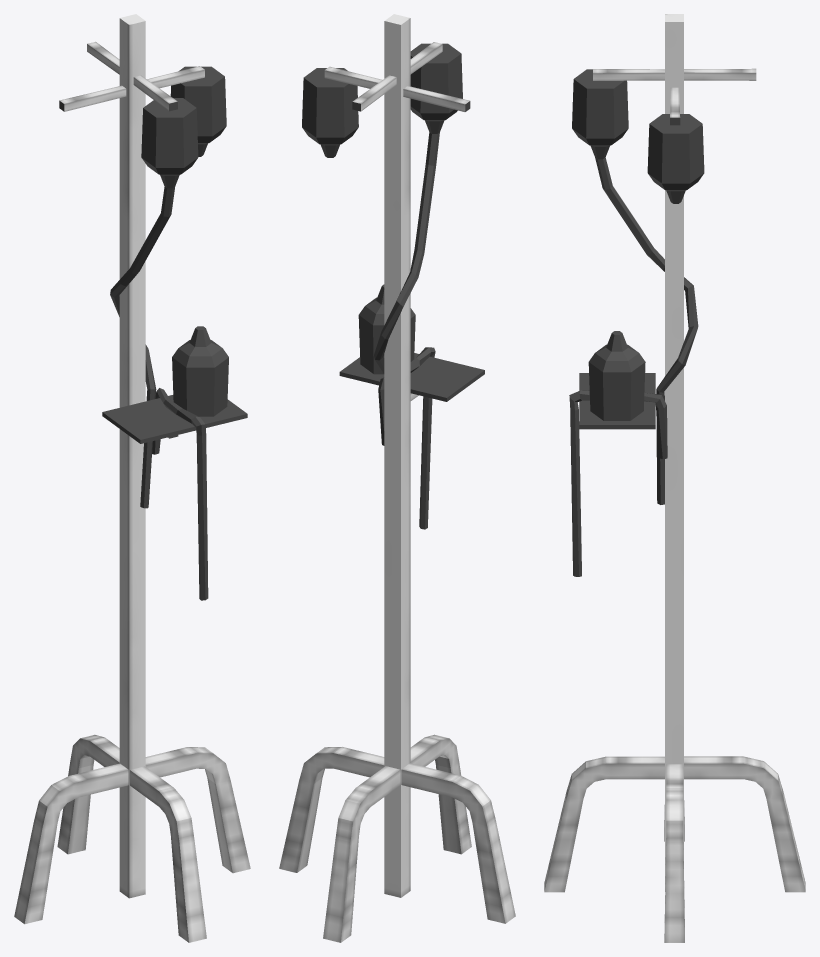
Rendered from obj_dripStand.fbx.
The picture shows the model from 3 angles, left to right: view 1: azimuth 30°, elevation 25°; view 2: azimuth 150°, elevation 25°; view 3: azimuth 270°, elevation 25°; orthographic projection.
Visible parts, largest first — view 1: obj_drip stand; view 2: obj_drip stand; view 3: obj_drip stand.
Part boxes in pixels (bbox=[...]): obj_drip stand: bbox=[14, 14, 250, 942]; obj_drip stand: bbox=[279, 14, 515, 942]; obj_drip stand: bbox=[544, 14, 805, 942].
Size of the model in its own units: 50.19 by 185 by 50.42.
